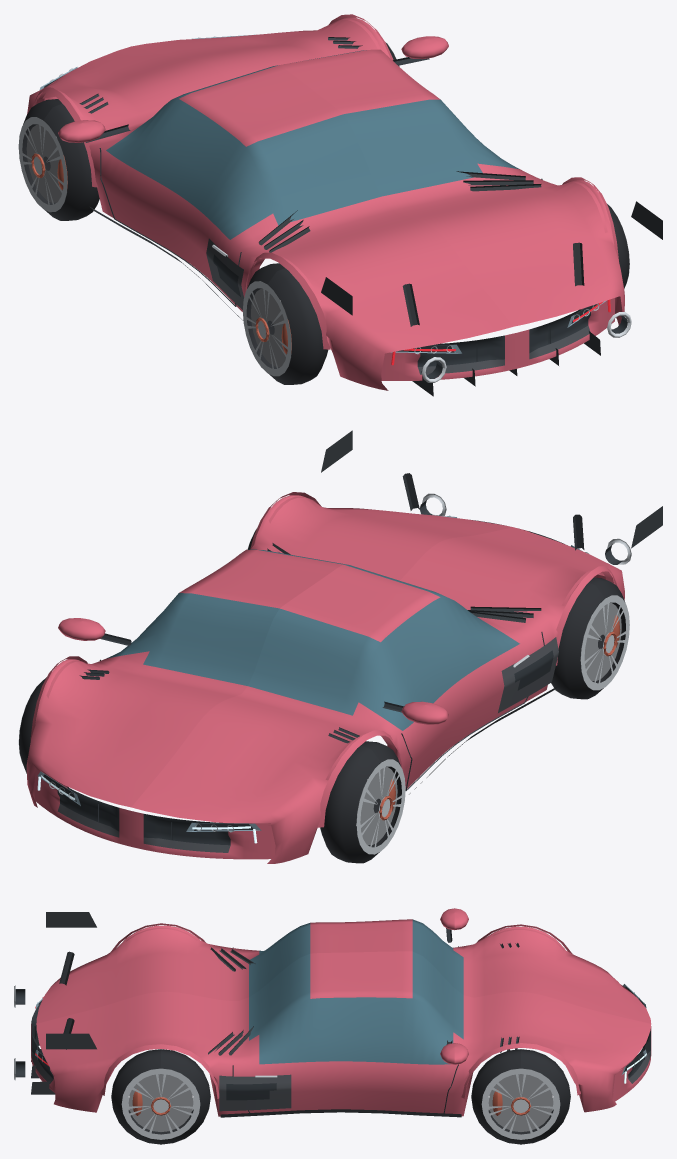
The model's file is razor_x_low.glb.
The picture shows the model from 3 angles, top to bottom: view 1: azimuth 30°, elevation 25°; view 2: azimuth 150°, elevation 25°; view 3: azimuth 270°, elevation 25°; orthographic projection. The views are drawn at different scales.
Visible parts, largest first — view 1: Body, Wheel_2, Wheel_0, Wheel_3; view 2: Body, Wheel_0, Wheel_2, Wheel_1; view 3: Body, Wheel_3, Wheel_1.
Part boxes in pixels (left/top/right/bottom): Body: left=27, top=14, right=662, bottom=396; Wheel_2: left=242, top=263, right=328, bottom=384; Wheel_0: left=18, top=99, right=99, bottom=220; Wheel_3: left=607, top=204, right=629, bottom=288; Body: left=26, top=430, right=662, bottom=863; Wheel_0: left=320, top=741, right=405, bottom=863; Wheel_2: left=551, top=577, right=629, bottom=699; Wheel_1: left=18, top=677, right=68, bottom=787; Body: left=14, top=908, right=651, bottom=1117; Wheel_3: left=111, top=1049, right=210, bottom=1144; Wheel_1: left=471, top=1049, right=570, bottom=1144.
Size of the model in its own units: 2.6 by 1.05 by 4.69.
